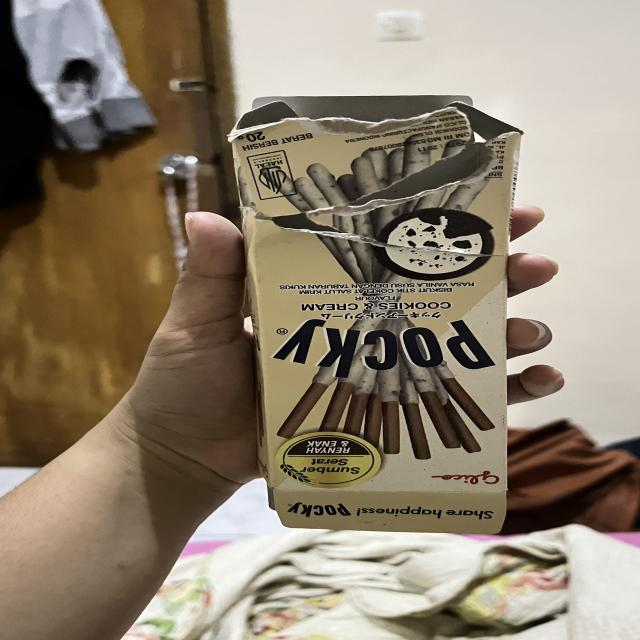Kertas: (240, 116, 522, 490)
